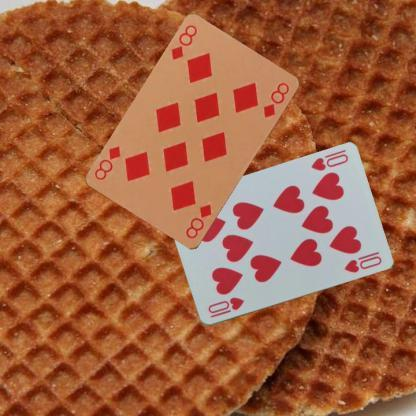10h: (205, 295, 245, 320), (308, 151, 350, 173)
8d: (183, 202, 216, 240), (168, 22, 198, 62)
